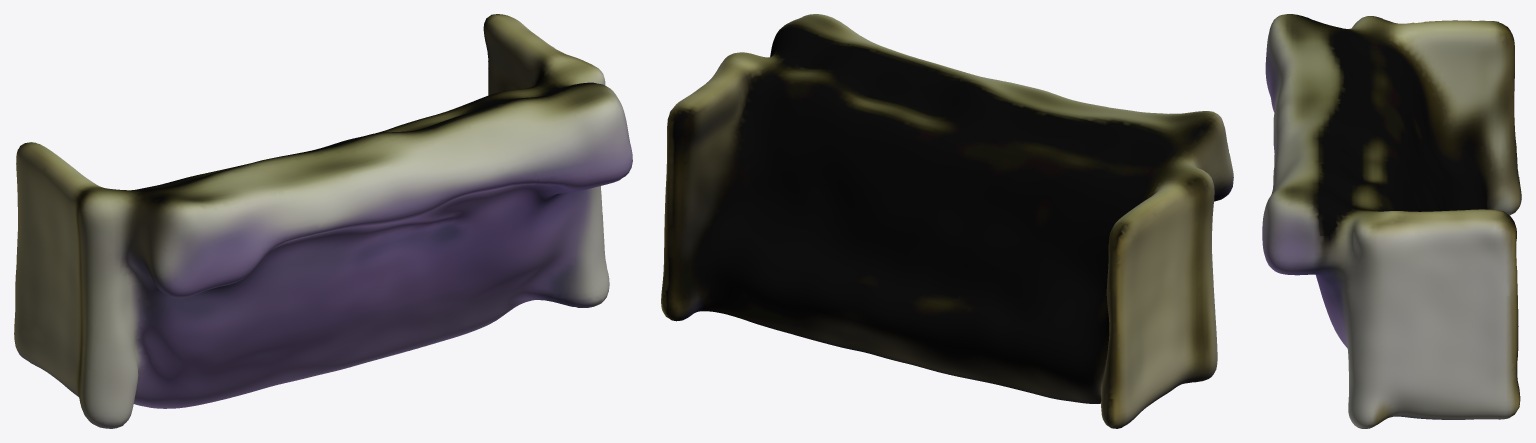
File: sofa.glb
3 renders of one model, left to right at view 1: azimuth 30°, elevation 25°; view 2: azimuth 150°, elevation 25°; view 3: azimuth 270°, elevation 25°, orthographic. The views are drawn at different scales.
Bounding box in the file's own units: 0.9988 × 0.4912 × 0.4866.
